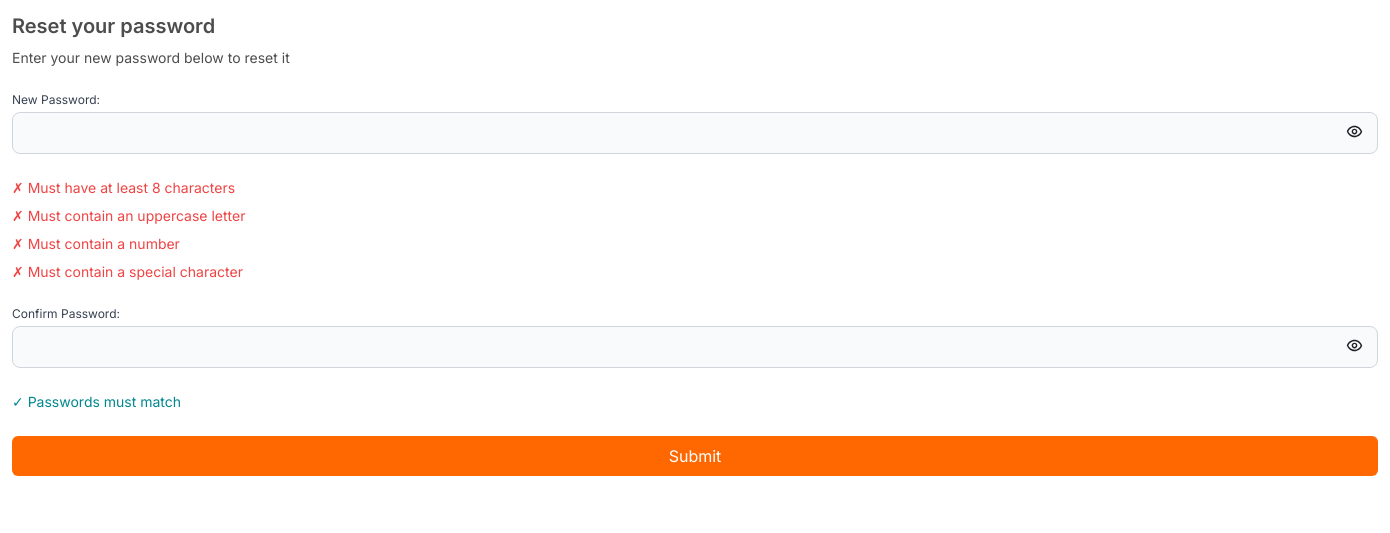
Test case: ResetPasswordForm integration › shows error if password is invalid
Type "abc" into the password field labelled "New Password:" at (695, 133), box [12, 112, 1378, 154]
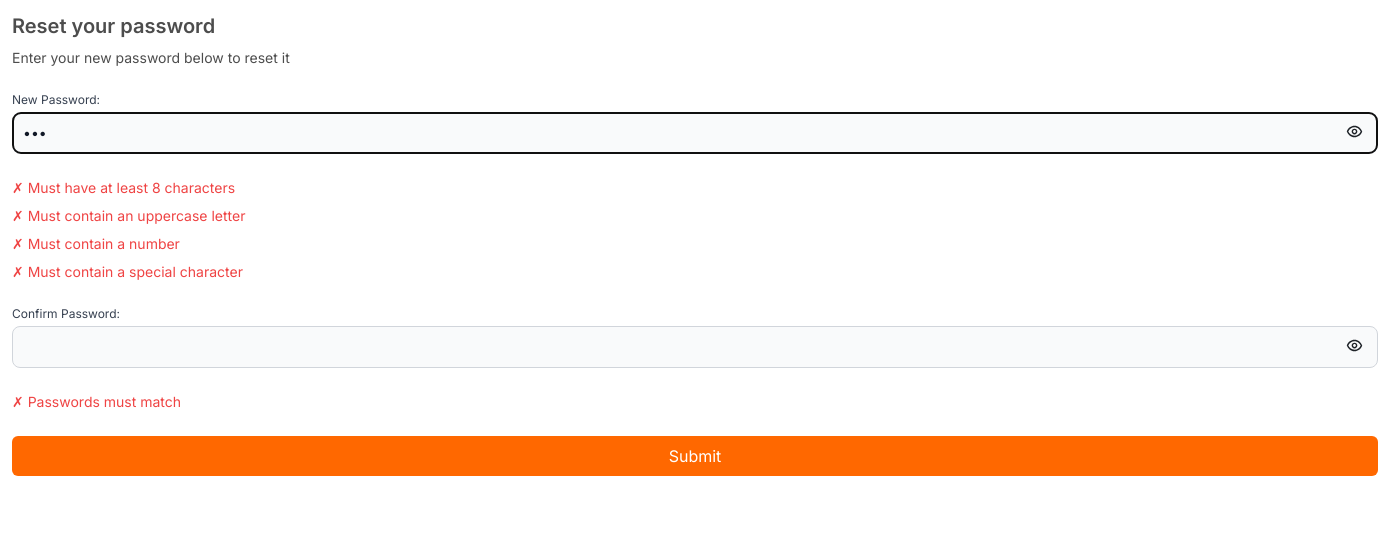
Type "abc" into the password field labelled "Confirm Password:" at (695, 347), box [12, 326, 1378, 368]
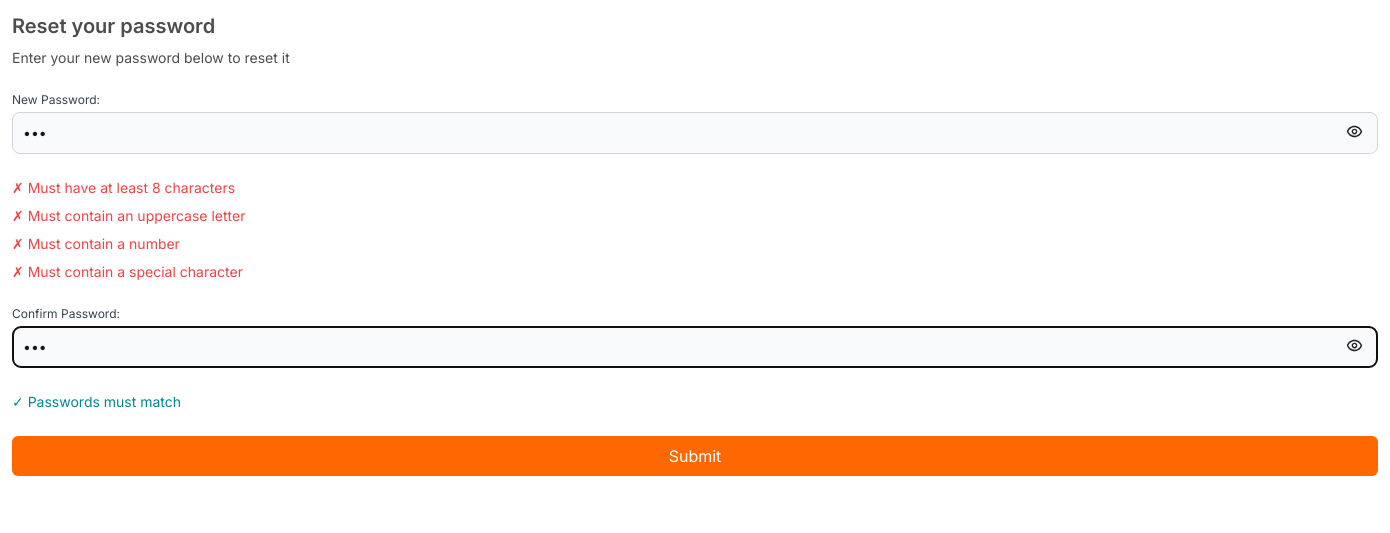
Click the button "Submit" at (695, 456), box [12, 436, 1378, 476]
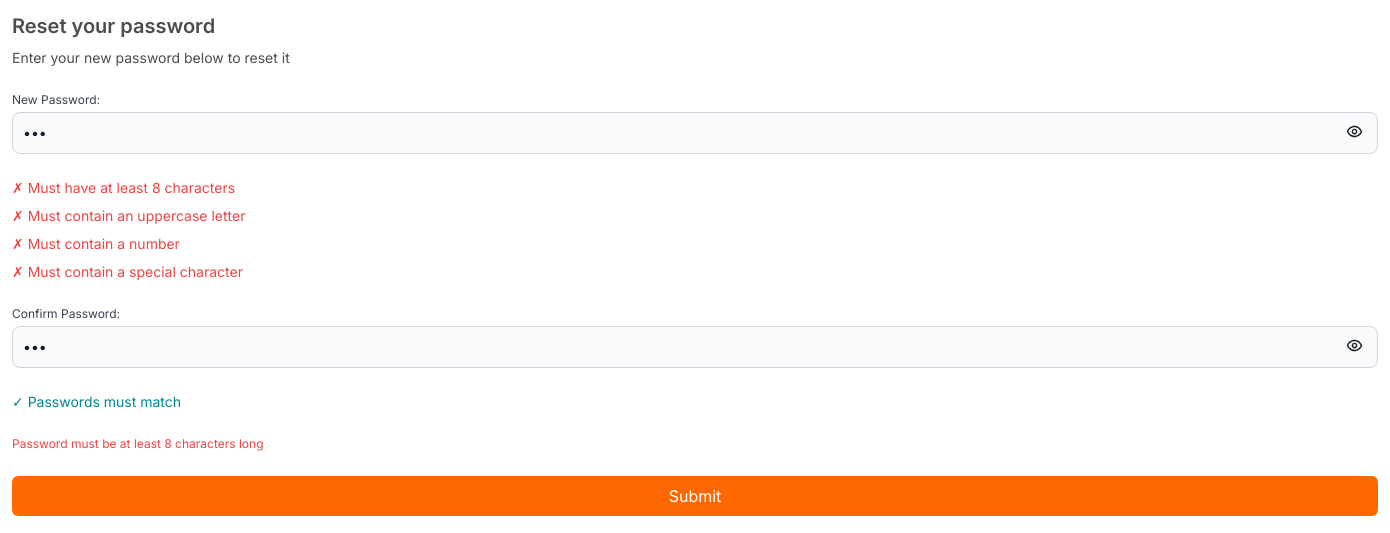
Check: the text "Password must be at least 8 characters long" is shown, box [12, 436, 264, 451]
